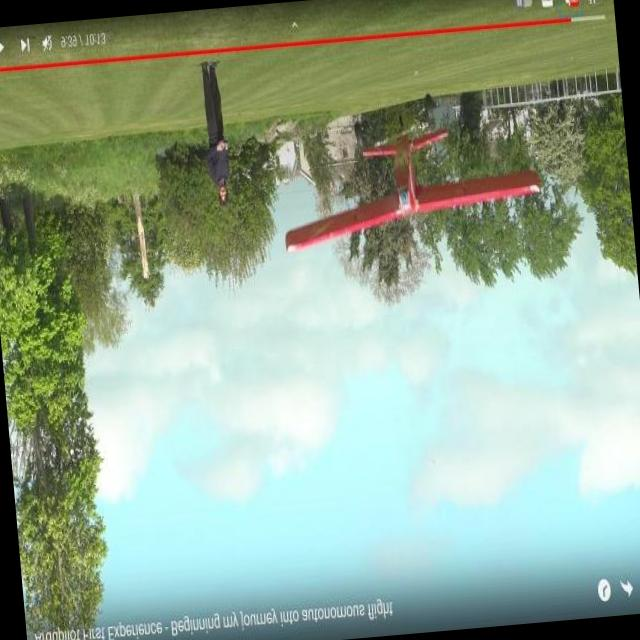UAV: (271, 108, 534, 300)
